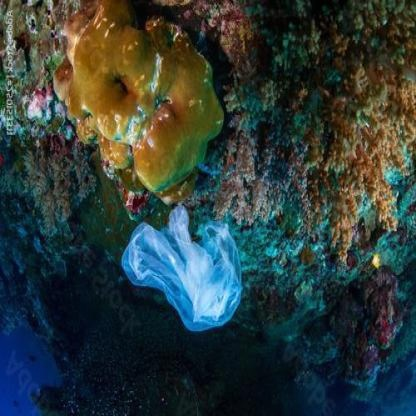pbag: (122, 205, 242, 332)
